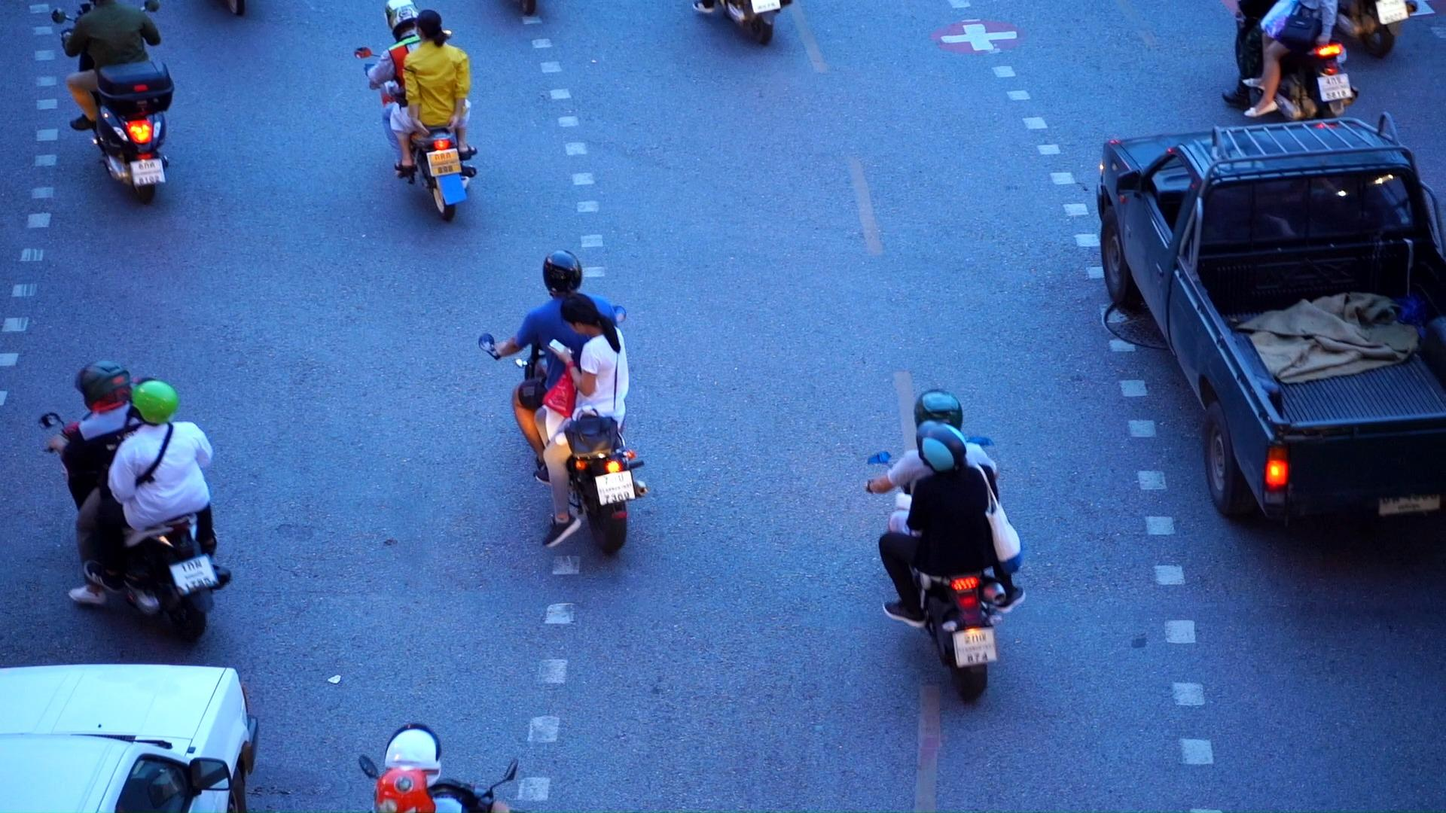driver: (38, 359, 232, 643), (862, 388, 1028, 706), (478, 250, 649, 553), (354, 0, 477, 222), (51, 0, 175, 205), (1221, 0, 1359, 121), (358, 721, 518, 813)
helmet: (383, 721, 443, 790), (372, 766, 437, 813), (75, 359, 131, 413), (916, 419, 967, 476), (123, 377, 179, 426), (913, 387, 964, 431), (542, 250, 583, 300), (384, 0, 420, 36)
no-helmet: (560, 293, 617, 338), (413, 9, 448, 48)
